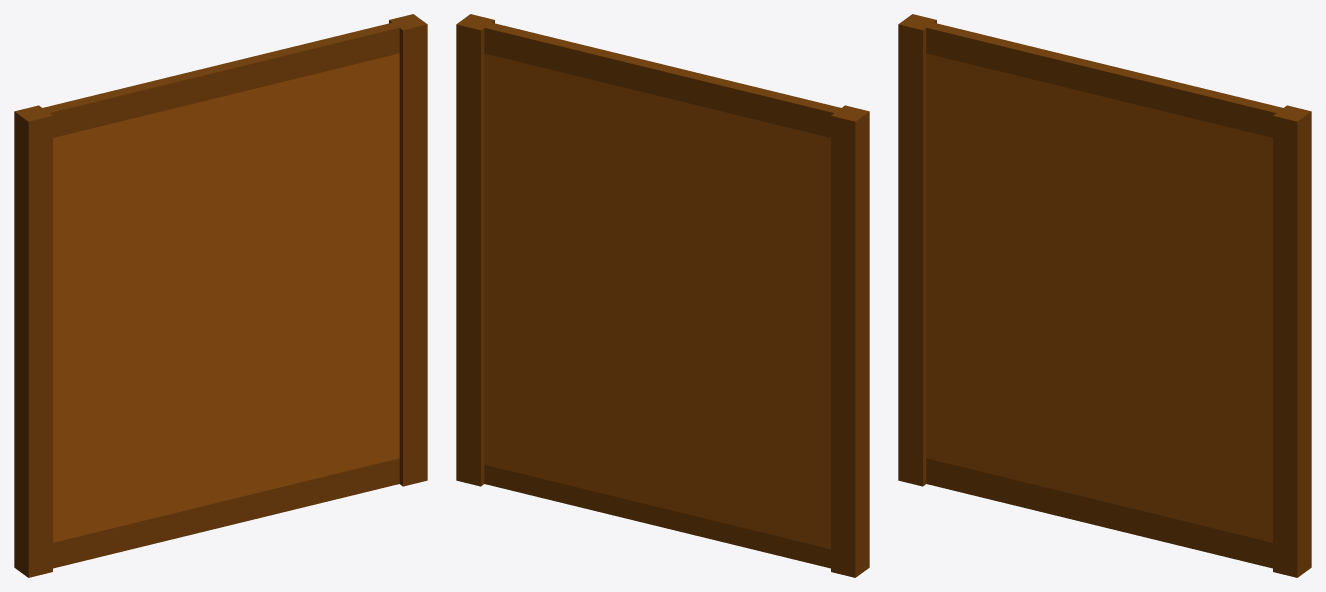
File: wood wall full.obj
3 renders of one model, left to right at view 1: azimuth 30°, elevation 25°; view 2: azimuth 150°, elevation 25°; view 3: azimuth 330°, elevation 25°, orthographic.
Visible parts, largest first — view 1: wood wall full; view 2: wood wall full; view 3: wood wall full.
Part boxes in pixels (left/top/right/bottom): wood wall full: left=14, top=14, right=427, bottom=577; wood wall full: left=456, top=14, right=869, bottom=577; wood wall full: left=898, top=14, right=1311, bottom=577.
Bounding box in the file's own units: 65 × 71 × 4.
1 material, 1 textured.
